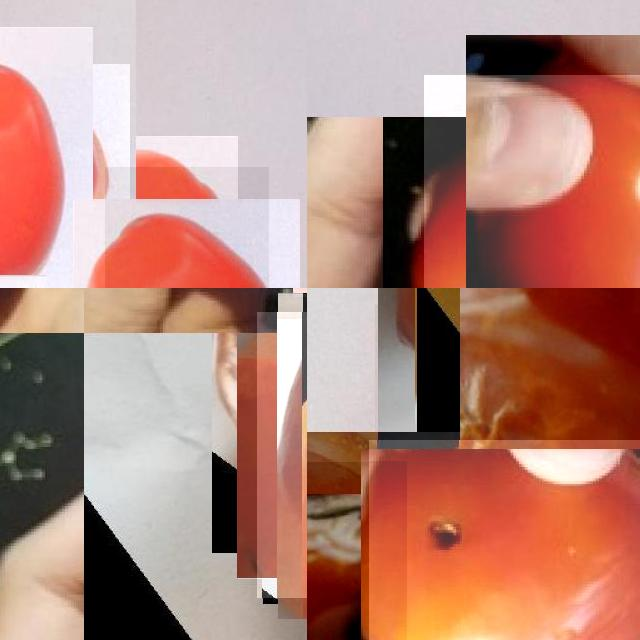Fresh Tomato: (424, 75, 640, 288), (0, 45, 111, 288), (104, 167, 269, 288)
Rotten Tomato: (369, 440, 640, 640), (438, 288, 640, 453), (307, 462, 408, 640)
